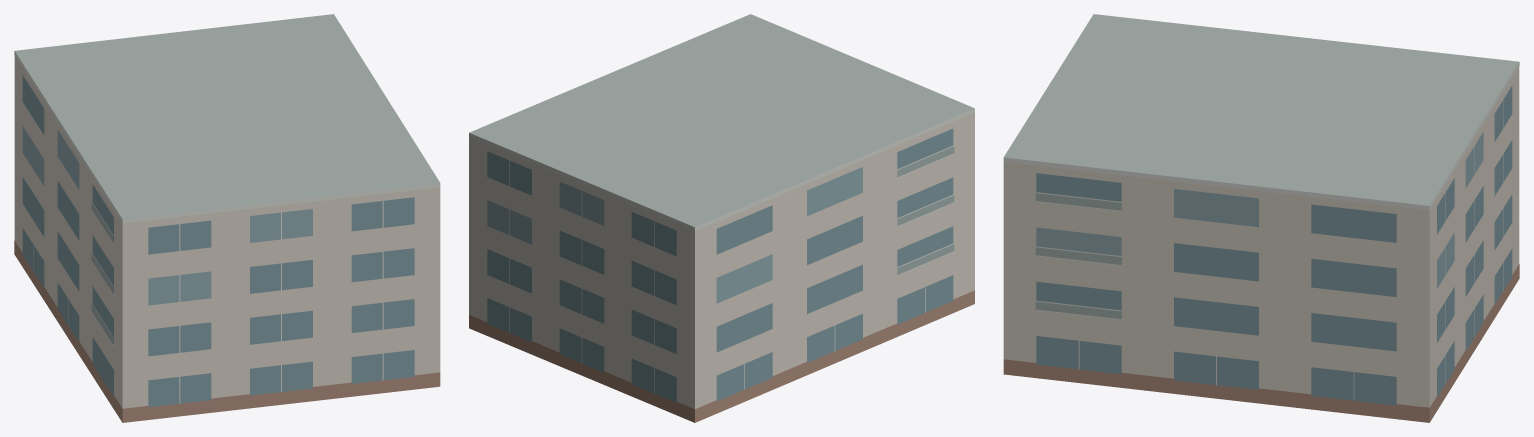
The model's file is survey-upis-32601717.glb.
3 views of the same model, side by side, from view 1: azimuth 30°, elevation 25°; view 2: azimuth 150°, elevation 25°; view 3: azimuth 270°, elevation 25° (orthographic). The views are drawn at different scales.
Parts seen in each view (by area): view 1: survey-upis-32601717.tmp; view 2: survey-upis-32601717.tmp; view 3: survey-upis-32601717.tmp.
Boxes of the visible parts, x1,y1,x2,y2 form: survey-upis-32601717.tmp: [14, 14, 440, 422]; survey-upis-32601717.tmp: [469, 14, 974, 422]; survey-upis-32601717.tmp: [1003, 14, 1519, 422].
Size of the model in its own units: 22.57 by 11.9 by 25.65.
